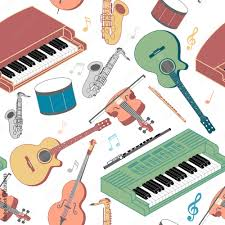Piano: (91, 135, 225, 215), (1, 3, 95, 109)
Saxophone: (75, 48, 138, 104), (1, 84, 34, 147)
